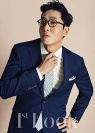male: (33, 5, 80, 62)
